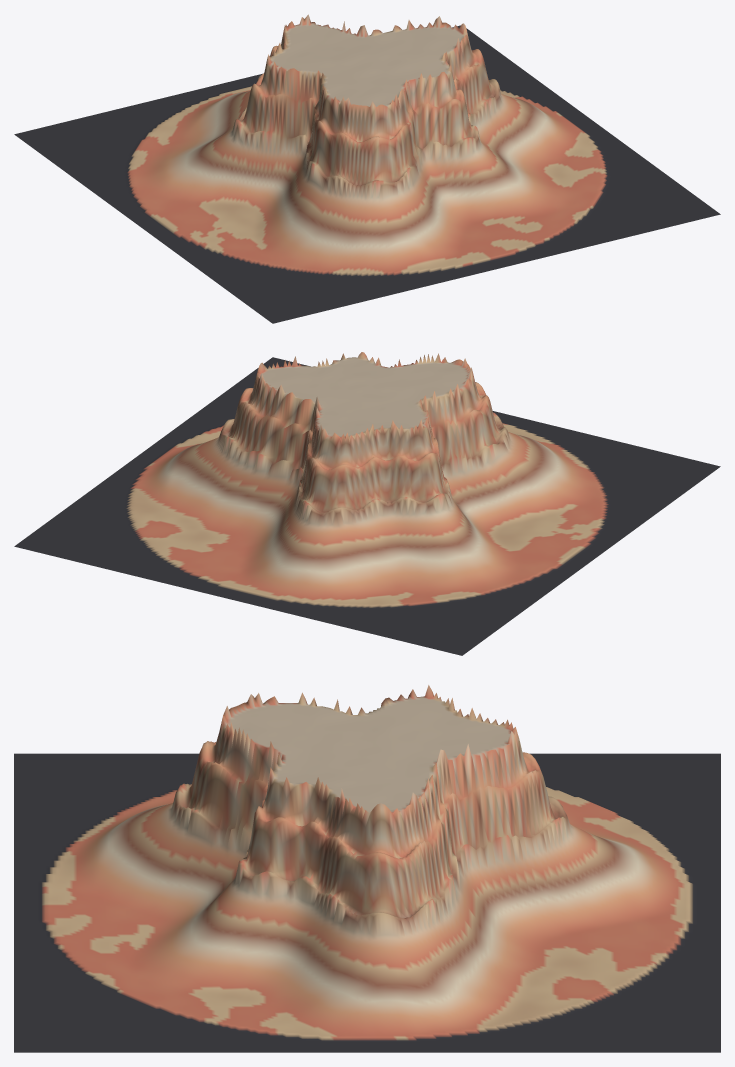
The model's file is Desert_Mesa.fbx.
The picture shows the model from 3 angles, top to bottom: view 1: azimuth 30°, elevation 25°; view 2: azimuth 150°, elevation 25°; view 3: azimuth 270°, elevation 25°; orthographic projection. The views are drawn at different scales.
Parts seen in each view (by area): view 1: Desert_Mesa; view 2: Desert_Mesa; view 3: Desert_Mesa.
Boxes of the visible parts, left/top/right/bottom form: Desert_Mesa: left=14, top=14, right=720, bottom=323; Desert_Mesa: left=14, top=352, right=720, bottom=655; Desert_Mesa: left=14, top=685, right=720, bottom=1052.
Bounding box in the file's own units: 2000 × 531 × 2000.
